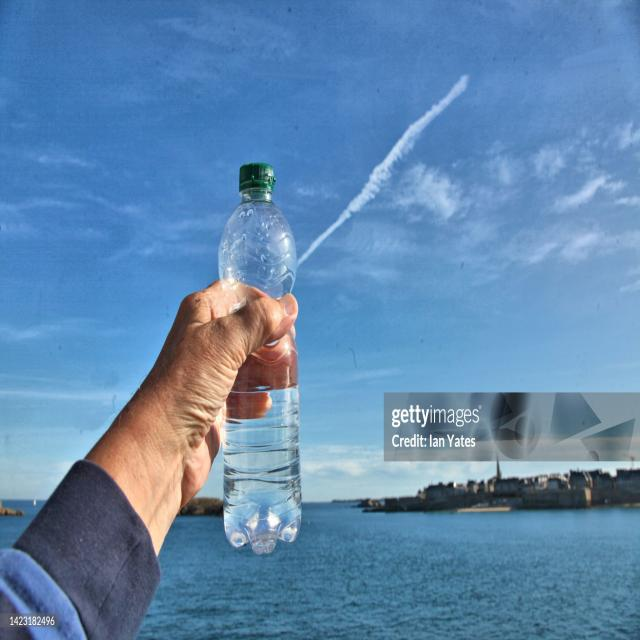bottle: (217, 160, 304, 558)
